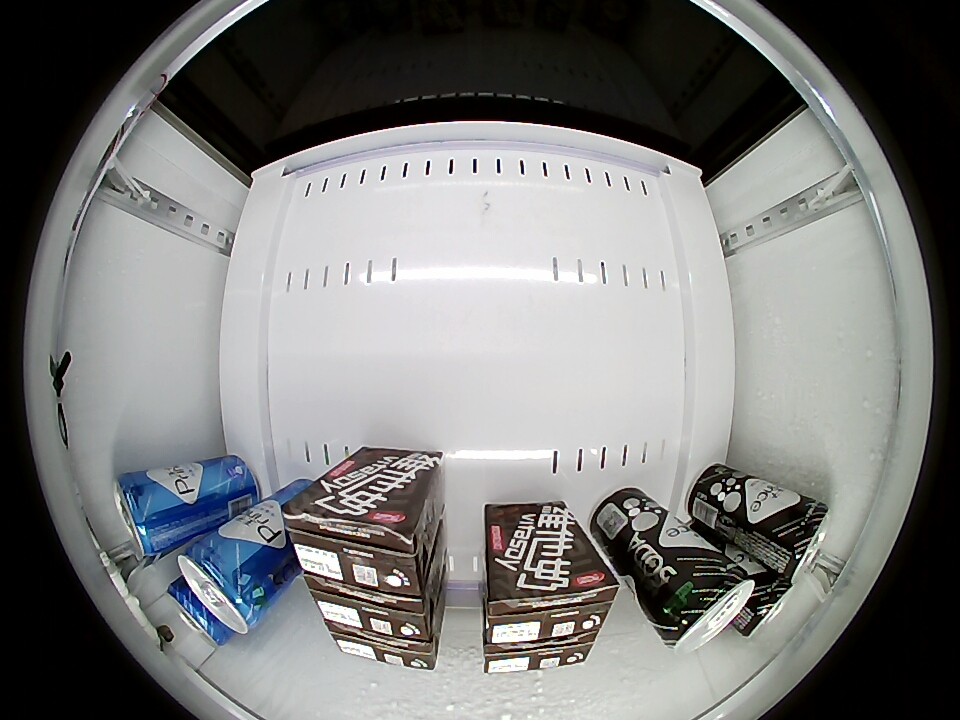qingdaowangzi-1: (654, 558, 756, 653), (769, 497, 831, 582), (736, 573, 796, 639)
qingdaowangzi-2: (174, 536, 270, 634), (113, 470, 174, 560), (168, 583, 229, 644)
weitanai2: (284, 487, 429, 594), (485, 557, 620, 647), (307, 578, 430, 640), (326, 627, 439, 669), (484, 634, 597, 674)
